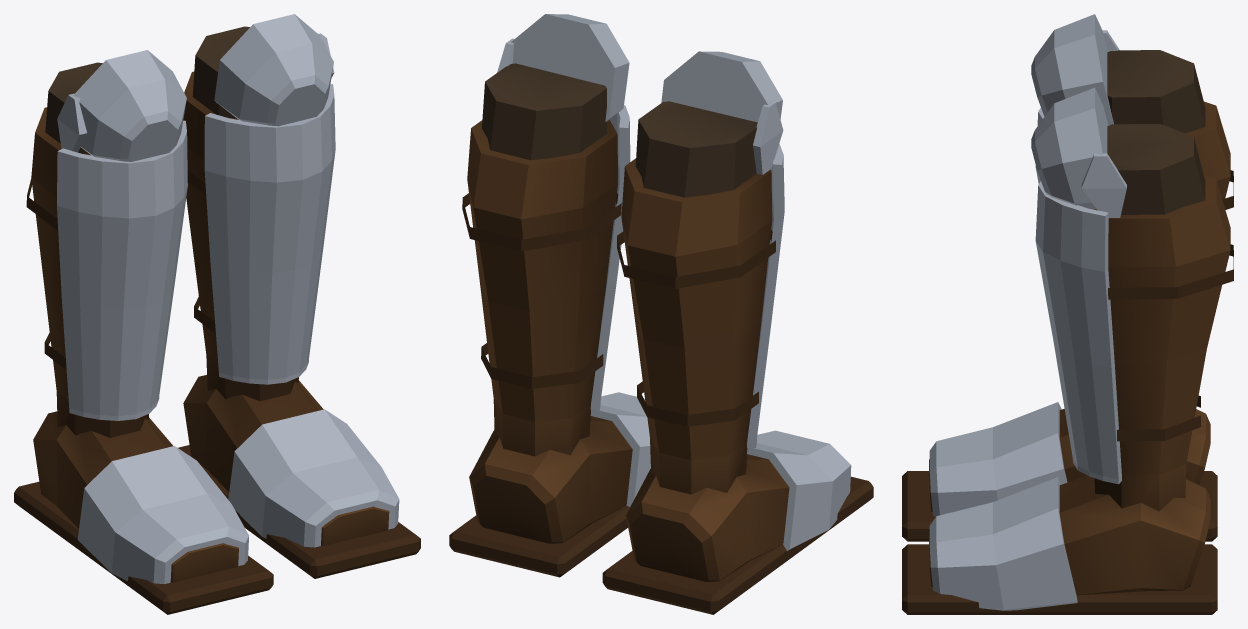
Rendered from f_plated.glb.
3 renders of one model, left to right at view 1: azimuth 30°, elevation 25°; view 2: azimuth 150°, elevation 25°; view 3: azimuth 270°, elevation 25°, orthographic. The views are drawn at different scales.
Parts seen in each view (by area): view 1: LegR_Boot, LegL_Boot, LegR_BootFoot, LegL_BootFoot, LegL_Shin, LegR_Shin; view 2: LegR_Boot, LegL_Boot, LegR_BootFoot, LegL_BootFoot, LegL_Shin, LegR_Shin; view 3: LegL_Boot, LegL_BootFoot, LegR_BootFoot, LegR_Boot, LegL_Shin, LegR_Shin.
Boxes of the visible parts, x1,y1,x2,y2 form: LegR_Boot: (26,50,187,437); LegL_Boot: (183,14,335,401); LegR_BootFoot: (14,411,273,614); LegL_BootFoot: (178,375,420,578); LegL_Shin: (192,26,249,118); LegR_Shin: (45,62,102,154); LegR_Boot: (617,51,784,494); LegL_Boot: (462,14,630,456); LegR_BootFoot: (602,430,873,614); LegL_BootFoot: (449,392,650,577); LegL_Shin: (482,63,606,160); LegR_Shin: (635,101,757,197); LegL_Boot: (1031,87,1233,511); LegL_BootFoot: (902,475,1217,614); LegR_BootFoot: (902,402,1217,541); LegR_Boot: (1031,14,1233,209); LegL_Shin: (1107,124,1205,214); LegR_Shin: (1107,50,1205,133).
Size of the model in its own units: 0.358 by 0.6032 by 0.3627.
